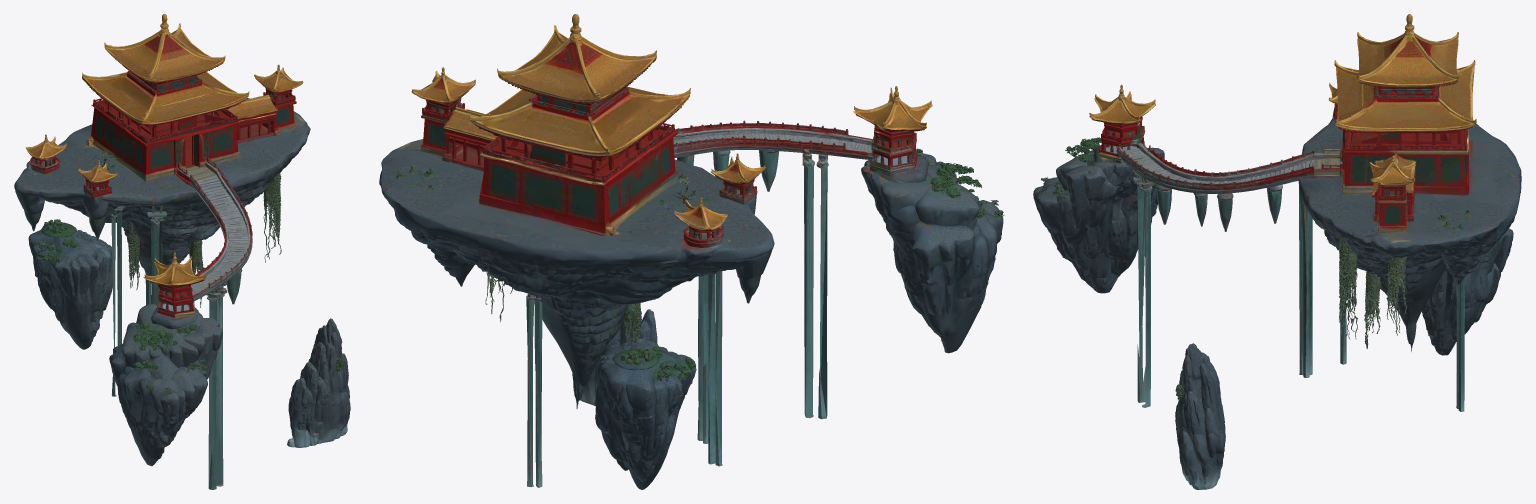
File: sky_palace.glb
3 renders of one model, left to right at view 1: azimuth 30°, elevation 25°; view 2: azimuth 150°, elevation 25°; view 3: azimuth 270°, elevation 25°, orthographic. The views are drawn at different scales.
Bounding box in the file's own units: 1.62 × 1.82 × 1.89.
1 material, 1 textured.
